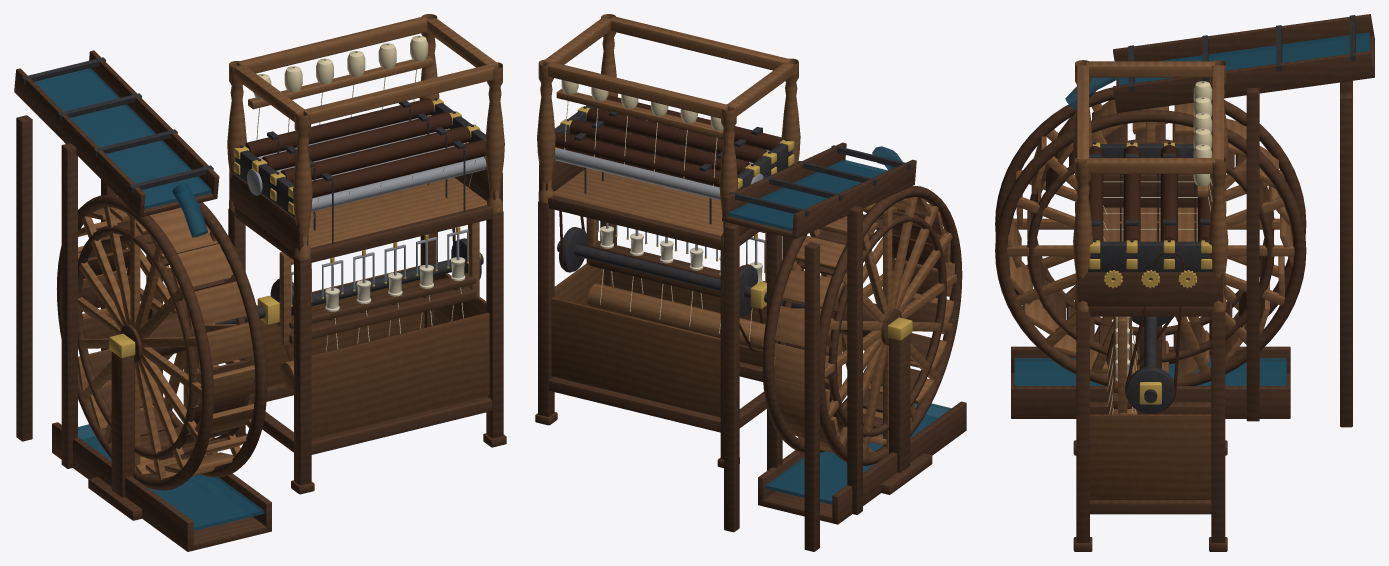
Rendered from water_frame.glb.
3 renders of one model, left to right at view 1: azimuth 30°, elevation 25°; view 2: azimuth 150°, elevation 25°; view 3: azimuth 270°, elevation 25°, orthographic. The views are drawn at different scales.
Parts seen in each view (by area): view 1: mrg_water_frame_woodDark, mrg_water_frame_wood, mrg_ww_wood, mrg_ww_woodDark, mrg_water_frame_oakPainted, flumeWater, mrg_flume_woodDark, mrg_water_frame_water, roller3_1, roller1_1, roller0_1, roller2_1 (+11 smaller); view 2: mrg_water_frame_woodDark, mrg_water_frame_wood, mrg_ww_wood, mrg_water_frame_oakPainted, mrg_ww_woodDark, mrg_flume_woodDark, spindleDrum, mrg_ww_iron, flumeWater, mrg_water_frame_water, roller0_1, roller2_1 (+11 smaller); view 3: mrg_water_frame_woodDark, mrg_ww_woodDark, mrg_ww_wood, mrg_water_frame_wood, mrg_flume_woodDark, mrg_water_frame_oakPainted, rollerBeam1, mrg_water_frame_water, flumeWater, rollerStand1, mrg_ww_iron, mrg_water_frame_brass (+11 smaller).
Boxes of the visible parts, x1=… form: mrg_water_frame_woodDark: x1=16, y1=115, x2=506, y2=551; mrg_water_frame_wood: x1=227, y1=14, x2=504, y2=345; mrg_ww_wood: x1=78, y1=206, x2=254, y2=480; mrg_ww_woodDark: x1=57, y1=195, x2=267, y2=490; mrg_water_frame_oakPainted: x1=245, y1=265, x2=489, y2=438; flumeWater: x1=34, y1=68, x2=211, y2=209; mrg_flume_woodDark: x1=14, y1=50, x2=219, y2=217; mrg_water_frame_water: x1=78, y1=183, x2=264, y2=530; roller3_1: x1=312, y1=139, x2=485, y2=198; roller1_1: x1=262, y1=112, x2=452, y2=170; roller0_1: x1=245, y1=98, x2=434, y2=156; roller2_1: x1=280, y1=126, x2=470, y2=183; mrg_water_frame_woodDark: x1=535, y1=195, x2=966, y2=551; mrg_water_frame_wood: x1=537, y1=14, x2=800, y2=344; mrg_ww_wood: x1=774, y1=197, x2=956, y2=456; mrg_water_frame_oakPainted: x1=551, y1=263, x2=766, y2=417; mrg_ww_woodDark: x1=762, y1=185, x2=962, y2=466; mrg_flume_woodDark: x1=722, y1=142, x2=916, y2=238; spindleDrum: x1=587, y1=283, x2=765, y2=351; mrg_ww_iron: x1=557, y1=227, x2=804, y2=316; flumeWater: x1=728, y1=159, x2=888, y2=231; mrg_water_frame_water: x1=765, y1=146, x2=951, y2=504; roller0_1: x1=555, y1=132, x2=720, y2=187; roller2_1: x1=586, y1=107, x2=767, y2=162; mrg_water_frame_woodDark: x1=1011, y1=81, x2=1352, y2=551; mrg_ww_woodDark: x1=995, y1=87, x2=1306, y2=385; mrg_ww_wood: x1=1006, y1=99, x2=1294, y2=378; mrg_water_frame_wood: x1=1073, y1=60, x2=1228, y2=413; mrg_flume_woodDark: x1=1113, y1=14, x2=1374, y2=112; mrg_water_frame_oakPainted: x1=1090, y1=414, x2=1211, y2=499; rollerBeam1: x1=1078, y1=272, x2=1223, y2=306; mrg_water_frame_water: x1=1014, y1=77, x2=1286, y2=385; flumeWater: x1=1119, y1=32, x2=1370, y2=85; rollerStand1: x1=1088, y1=241, x2=1213, y2=272; mrg_ww_iron: x1=1126, y1=316, x2=1174, y2=413; mrg_water_frame_brass: x1=1089, y1=142, x2=1212, y2=404.
Size of the model in its own units: 2.36 by 2.33 by 2.04.
Materials: 10 (7 with a texture image).
